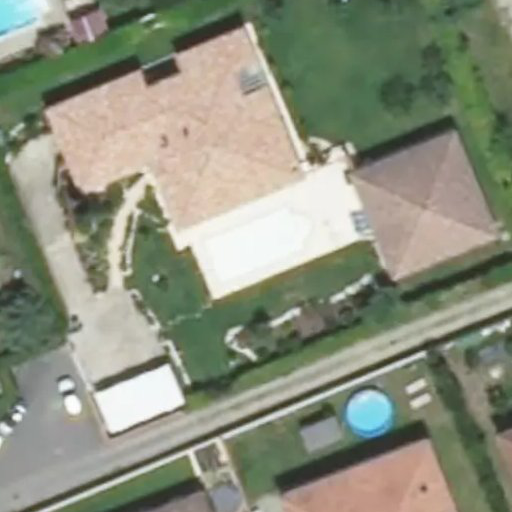pool: (197, 207, 320, 283), (344, 385, 398, 444)
